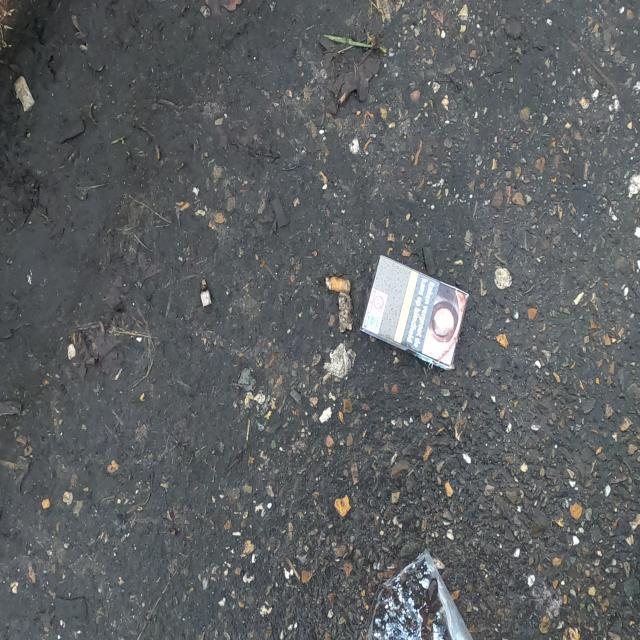Paper: (358, 250, 472, 372), (364, 547, 473, 640)
